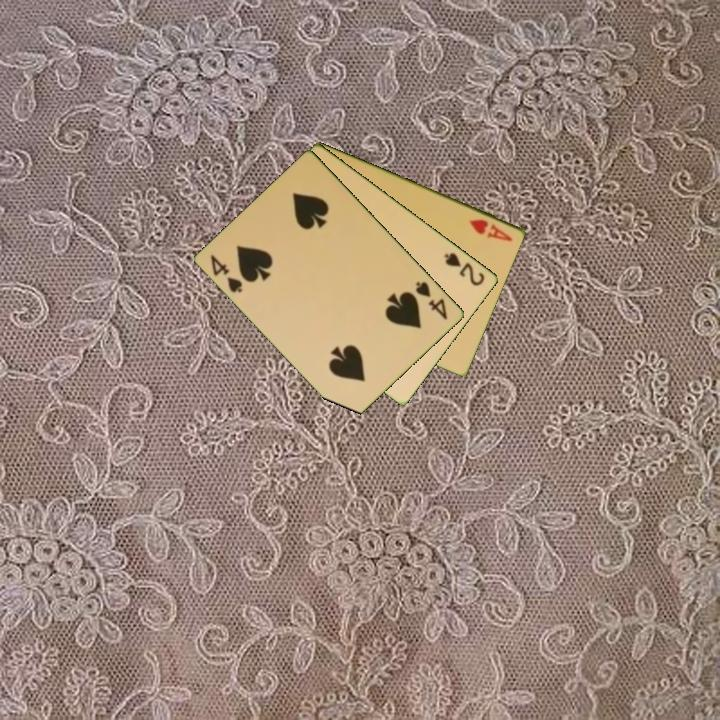2s: (440, 249, 488, 289)
4s: (412, 278, 451, 323), (207, 251, 246, 296)
Ah: (466, 215, 516, 244)
